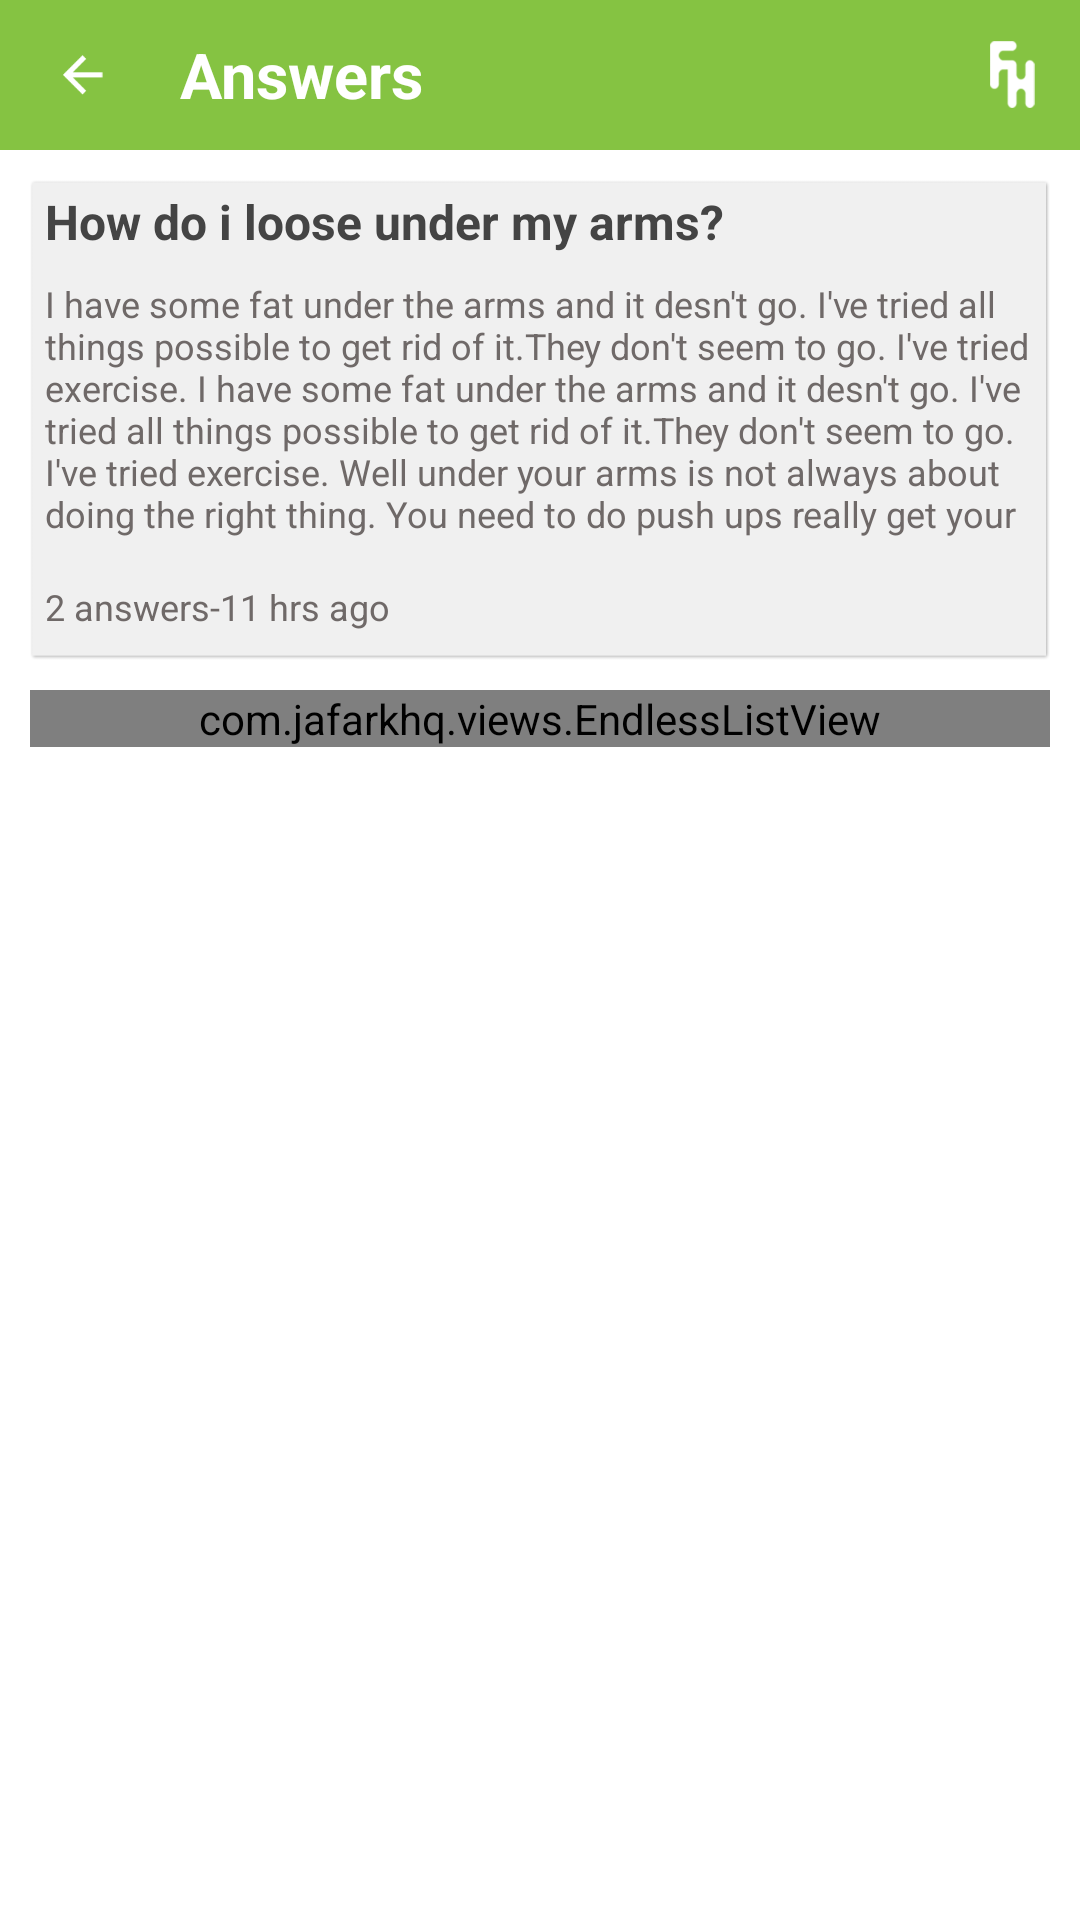

Locate icon controls on the screen. Image size 1080px×1920px, boxes as (x1, y1, x2, y2).
back: (63, 55, 103, 95)
